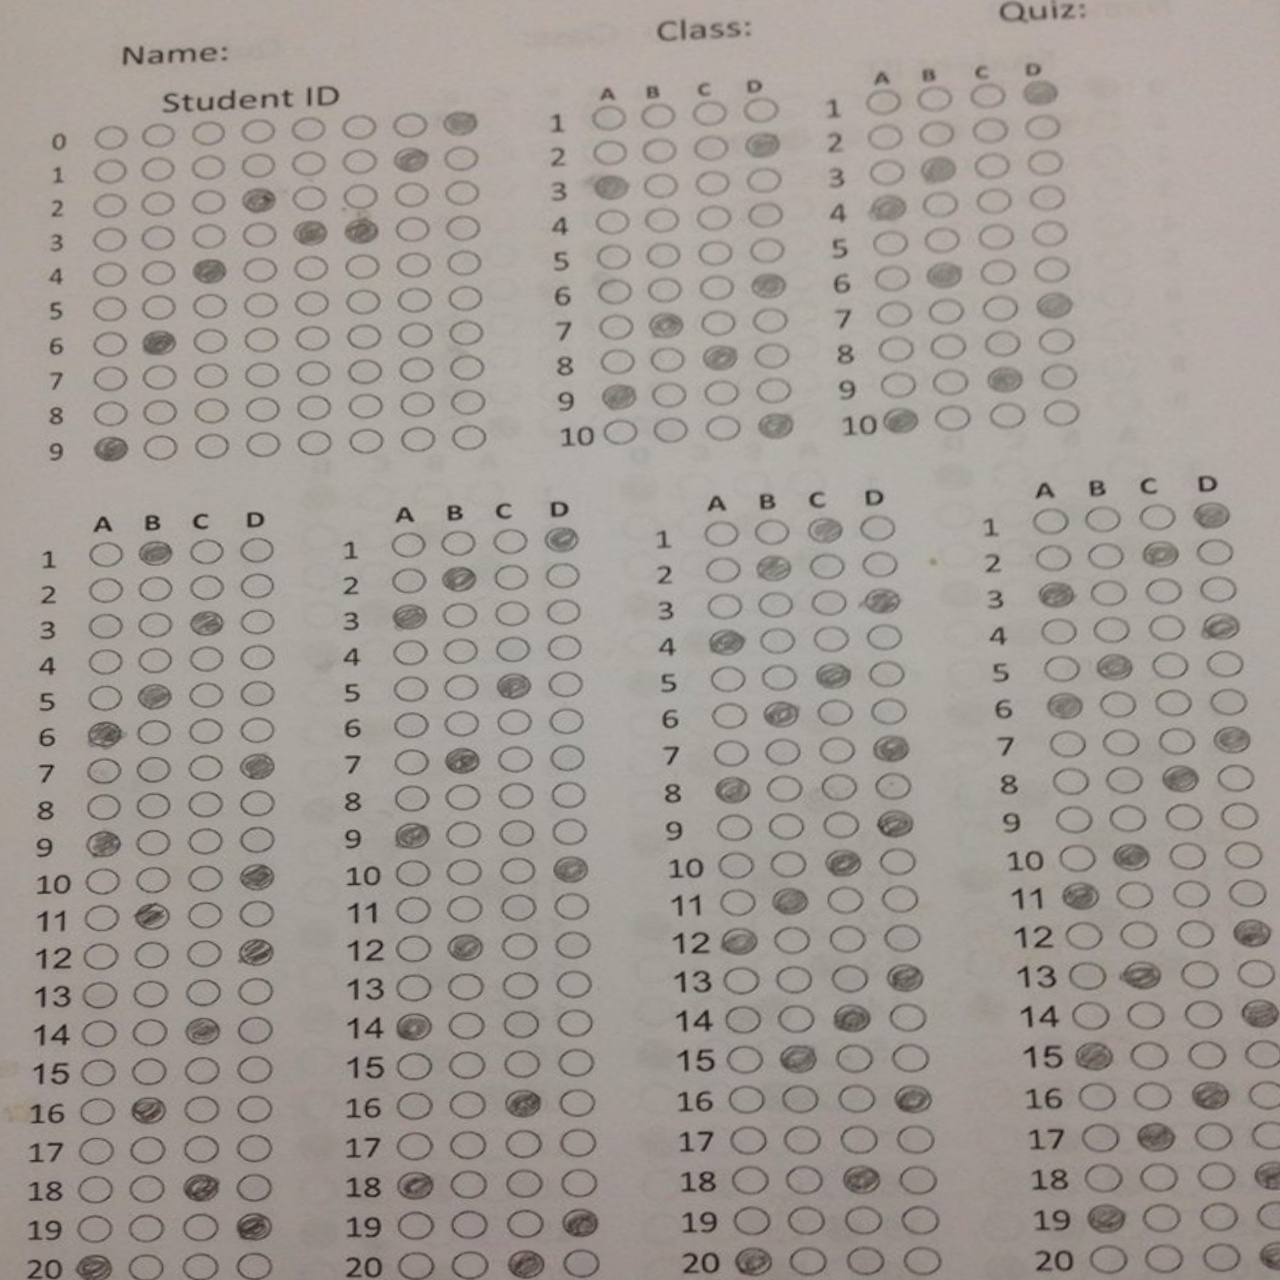not-c: (892, 1160, 941, 1196), (557, 1244, 602, 1280), (775, 1000, 818, 1035), (899, 1241, 942, 1276), (445, 1248, 493, 1280), (832, 1082, 880, 1114), (887, 1000, 932, 1034), (897, 1121, 941, 1155), (782, 1203, 828, 1235), (1187, 1039, 1233, 1071), (497, 891, 539, 926), (556, 1046, 598, 1081), (728, 1204, 775, 1235), (877, 921, 921, 954), (1040, 651, 1084, 683), (928, 294, 968, 331), (1235, 956, 1278, 990), (392, 972, 435, 1005), (927, 365, 971, 397), (898, 1203, 942, 1234), (765, 926, 813, 955), (822, 926, 870, 955), (545, 667, 585, 702), (554, 1005, 594, 1040), (590, 205, 632, 238), (781, 1121, 823, 1153), (838, 1122, 880, 1155), (1035, 324, 1077, 356), (1141, 1200, 1183, 1233), (552, 966, 595, 998), (871, 769, 914, 801), (840, 1203, 884, 1234), (560, 1165, 598, 1201), (730, 1162, 769, 1197), (549, 891, 593, 921), (982, 290, 1022, 324), (724, 1122, 765, 1155), (491, 526, 533, 558), (1171, 877, 1213, 908), (127, 1172, 170, 1203), (556, 1085, 599, 1116), (771, 962, 815, 993), (887, 1041, 931, 1071), (787, 1246, 830, 1276), (1216, 801, 1259, 831), (1065, 1001, 1109, 1032), (449, 1128, 486, 1163), (874, 885, 921, 913), (719, 968, 765, 996), (1083, 1245, 1130, 1273), (449, 1167, 489, 1200), (762, 737, 802, 770), (1179, 959, 1219, 992), (1200, 1240, 1240, 1273), (1020, 110, 1064, 139), (1194, 1159, 1239, 1189), (501, 1049, 542, 1081), (1139, 1160, 1180, 1192), (980, 331, 1028, 358), (233, 1055, 275, 1085), (707, 663, 753, 692), (726, 1085, 771, 1114), (1022, 149, 1064, 179), (1191, 536, 1233, 566), (1099, 727, 1142, 757), (1114, 878, 1156, 908), (1117, 919, 1159, 949), (1200, 1201, 1242, 1232), (184, 1133, 222, 1167), (878, 367, 915, 401), (132, 573, 176, 602), (389, 747, 433, 776), (499, 972, 543, 1001), (813, 736, 857, 765), (712, 852, 755, 881), (847, 1242, 891, 1272), (188, 862, 226, 894), (704, 590, 743, 622), (1109, 802, 1148, 835), (591, 244, 638, 271), (812, 622, 852, 654), (1057, 840, 1097, 872), (1170, 839, 1210, 871), (1178, 918, 1218, 949), (231, 1095, 275, 1123), (234, 1250, 275, 1280), (389, 530, 430, 560), (971, 150, 1012, 181), (1085, 540, 1126, 571), (552, 933, 594, 962), (830, 964, 872, 993), (784, 1165, 826, 1194), (974, 222, 1016, 251), (930, 404, 972, 434), (1150, 651, 1192, 680), (1129, 1043, 1171, 1073), (1078, 1081, 1121, 1110), (395, 1050, 431, 1084), (542, 633, 587, 660), (743, 238, 789, 265), (547, 779, 585, 812), (395, 931, 434, 962), (980, 256, 1019, 287), (1216, 762, 1254, 794), (1228, 878, 1267, 910), (389, 636, 433, 665), (504, 1211, 547, 1239), (237, 1132, 277, 1163), (236, 1171, 275, 1201), (502, 1166, 542, 1197), (396, 1208, 436, 1239), (858, 515, 898, 545), (756, 591, 796, 621), (1156, 726, 1196, 756), (1087, 1162, 1126, 1192), (1030, 545, 1077, 571), (544, 561, 585, 591), (690, 171, 731, 200), (726, 1044, 767, 1074), (973, 188, 1014, 217), (1029, 184, 1070, 213), (1041, 399, 1082, 428), (1210, 687, 1251, 716), (1126, 1002, 1167, 1032), (1087, 617, 1131, 644), (236, 899, 278, 927), (440, 527, 477, 559), (445, 894, 483, 926), (448, 1092, 490, 1121), (397, 1129, 435, 1160), (714, 887, 756, 915), (782, 1082, 819, 1114), (496, 782, 535, 812), (393, 856, 431, 886), (753, 374, 791, 404), (1133, 1082, 1172, 1112), (586, 104, 629, 131), (641, 138, 685, 165), (701, 416, 744, 443), (445, 282, 485, 312), (182, 1056, 222, 1085), (546, 743, 586, 772), (497, 931, 537, 960), (392, 1091, 431, 1121), (700, 309, 740, 339), (1051, 765, 1091, 795), (130, 1019, 171, 1047), (178, 1252, 219, 1280), (495, 597, 530, 629), (499, 855, 535, 887), (448, 1012, 489, 1040), (1085, 504, 1126, 532), (239, 604, 275, 635), (135, 939, 171, 971), (79, 1175, 115, 1206), (552, 816, 588, 847), (184, 754, 229, 779), (592, 316, 636, 342), (701, 558, 745, 584), (1198, 577, 1242, 602), (186, 978, 224, 1008), (504, 1009, 542, 1040), (864, 549, 901, 579), (771, 851, 809, 881), (1048, 727, 1085, 757), (1165, 802, 1203, 832), (1187, 999, 1225, 1029), (1242, 1041, 1280, 1071), (396, 392, 438, 418), (129, 1137, 171, 1164), (386, 567, 428, 594), (493, 709, 536, 736), (867, 159, 910, 186), (1220, 842, 1262, 869), (86, 648, 124, 678), (76, 1097, 115, 1126), (833, 1043, 872, 1073), (1069, 960, 1108, 989), (291, 254, 331, 282), (343, 359, 383, 387), (189, 682, 229, 710), (79, 1022, 118, 1050), (394, 1252, 434, 1280), (652, 417, 692, 445), (712, 740, 751, 768), (913, 84, 953, 113), (1204, 648, 1244, 676), (388, 712, 431, 737), (444, 973, 488, 999), (636, 101, 680, 127), (818, 774, 862, 799), (450, 353, 486, 383), (444, 783, 481, 813), (559, 1126, 595, 1157), (757, 516, 794, 546), (988, 402, 1024, 433), (1194, 1121, 1231, 1151), (341, 252, 382, 279), (125, 1216, 166, 1242), (760, 626, 801, 653), (723, 1005, 764, 1032), (342, 287, 380, 316), (452, 423, 490, 452), (551, 706, 588, 735), (448, 1050, 485, 1080), (191, 361, 230, 389), (241, 360, 280, 388), (293, 393, 332, 421), (442, 638, 481, 666), (390, 674, 433, 700), (443, 710, 482, 738), (442, 858, 481, 886), (451, 1210, 490, 1238), (806, 552, 849, 578), (1054, 806, 1092, 835), (141, 433, 181, 459), (75, 1138, 115, 1165), (600, 418, 640, 445), (874, 302, 914, 329), (1153, 688, 1193, 715), (139, 610, 175, 640), (1030, 217, 1065, 247), (1040, 361, 1075, 392), (968, 83, 1012, 108), (134, 865, 170, 894), (703, 379, 740, 408), (188, 293, 229, 319), (1137, 502, 1178, 527), (1088, 583, 1129, 608), (448, 387, 485, 415), (189, 716, 226, 744), (185, 938, 223, 966), (79, 1057, 116, 1085), (130, 1058, 168, 1087), (496, 635, 533, 663), (394, 894, 431, 922), (754, 343, 791, 372), (1034, 256, 1071, 284), (874, 334, 912, 362), (1108, 765, 1145, 794), (1065, 921, 1103, 949), (1083, 1125, 1121, 1153), (190, 120, 229, 147), (441, 144, 479, 171), (142, 361, 181, 388), (138, 399, 177, 425), (294, 429, 333, 456), (86, 576, 124, 602), (642, 172, 681, 199), (642, 207, 681, 234), (703, 522, 742, 549), (878, 847, 917, 874), (922, 226, 961, 253), (1030, 508, 1069, 535), (1144, 1245, 1183, 1272), (508, 1126, 540, 1158), (132, 978, 166, 1008), (501, 816, 535, 846), (396, 215, 431, 244), (136, 791, 171, 821), (1150, 613, 1185, 642), (189, 188, 229, 213), (182, 1098, 222, 1124), (692, 100, 731, 125), (240, 642, 277, 670), (239, 715, 275, 743), (84, 903, 121, 931), (1099, 690, 1136, 719), (340, 184, 377, 211), (393, 181, 430, 207), (444, 179, 482, 206), (88, 226, 125, 253), (291, 290, 328, 316), (195, 431, 232, 458), (399, 425, 436, 452), (136, 648, 173, 675), (128, 1253, 165, 1280), (83, 796, 124, 821), (84, 940, 117, 971), (240, 1015, 273, 1046), (1247, 1080, 1280, 1110), (86, 685, 124, 710), (132, 755, 171, 781), (186, 792, 225, 818), (694, 205, 733, 231), (644, 278, 682, 304), (695, 277, 734, 302), (651, 382, 689, 408), (864, 89, 903, 115), (241, 571, 275, 600), (744, 95, 778, 124), (93, 363, 128, 392), (240, 789, 275, 817), (869, 621, 904, 649), (761, 665, 796, 693), (90, 331, 130, 355), (80, 983, 120, 1008), (441, 602, 481, 627), (696, 241, 736, 266), (294, 325, 331, 352), (134, 829, 170, 856), (594, 139, 631, 166), (138, 123, 176, 149), (86, 540, 123, 566), (135, 720, 172, 745), (812, 591, 850, 617), (816, 700, 853, 726), (715, 813, 753, 839), (769, 813, 806, 839), (869, 125, 906, 151), (592, 281, 635, 304), (188, 903, 222, 931), (745, 166, 779, 195), (1148, 576, 1182, 604), (138, 226, 177, 251), (828, 887, 866, 912), (239, 120, 274, 147), (345, 147, 380, 173), (445, 215, 481, 241), (238, 537, 273, 564), (240, 828, 275, 855), (86, 867, 121, 894), (184, 1213, 219, 1240), (545, 599, 580, 626), (744, 200, 779, 227), (710, 702, 745, 729), (872, 699, 907, 726), (974, 115, 1009, 142), (924, 192, 959, 219), (1043, 618, 1078, 645), (139, 191, 176, 217), (195, 399, 231, 424), (244, 396, 280, 422), (493, 566, 530, 592), (867, 661, 907, 685), (765, 777, 805, 801), (88, 195, 125, 219), (394, 252, 431, 277), (244, 291, 277, 319), (245, 326, 282, 350), (449, 319, 486, 343), (299, 360, 332, 388), (823, 812, 860, 837), (189, 828, 223, 855), (447, 821, 481, 847), (191, 224, 226, 250), (91, 260, 127, 286), (445, 250, 481, 275), (91, 295, 127, 321), (193, 327, 229, 353), (244, 433, 282, 456), (86, 614, 124, 638), (240, 680, 275, 706), (497, 748, 532, 774), (395, 788, 430, 813), (871, 233, 910, 257), (290, 152, 326, 177), (239, 258, 275, 282), (188, 576, 224, 600), (692, 137, 728, 162), (873, 267, 910, 292), (1250, 1122, 1280, 1151), (143, 293, 176, 320), (399, 356, 431, 383), (599, 349, 636, 373), (193, 154, 227, 179), (399, 286, 433, 312), (350, 392, 384, 417), (79, 1218, 113, 1244), (94, 125, 129, 150), (141, 158, 176, 183), (397, 320, 433, 345), (188, 647, 223, 672), (240, 979, 272, 1006), (919, 120, 951, 147), (89, 158, 125, 182), (394, 113, 427, 138), (348, 324, 381, 349), (651, 349, 683, 375), (94, 401, 128, 425), (89, 758, 123, 783), (445, 676, 477, 702), (931, 333, 964, 358), (241, 223, 275, 246), (649, 243, 680, 268), (1254, 1200, 1280, 1231), (288, 117, 324, 139), (142, 263, 177, 285), (753, 309, 788, 332), (350, 430, 384, 452), (191, 539, 222, 564), (343, 116, 375, 139), (241, 156, 277, 177), (294, 186, 327, 207)
taken-c: (390, 1008, 435, 1043), (125, 1092, 171, 1126), (595, 380, 642, 413), (837, 1162, 883, 1194), (888, 1081, 933, 1114), (183, 606, 229, 638), (1231, 915, 1273, 949), (1084, 1201, 1126, 1235), (729, 1244, 772, 1276), (745, 270, 790, 301), (1118, 958, 1163, 989), (128, 900, 171, 932), (644, 309, 687, 341), (188, 256, 232, 286), (501, 1087, 545, 1117), (775, 1043, 819, 1074), (181, 1171, 222, 1204), (1058, 879, 1099, 912), (1239, 998, 1280, 1030), (1133, 1121, 1175, 1153), (1032, 290, 1077, 319), (234, 862, 278, 892), (1138, 539, 1182, 570), (232, 935, 277, 965), (917, 154, 958, 185), (438, 107, 481, 137), (89, 433, 131, 463), (392, 821, 434, 851), (922, 259, 965, 290), (865, 191, 907, 222), (395, 1167, 433, 1201), (341, 215, 381, 246), (182, 1014, 222, 1046), (443, 931, 483, 962), (438, 561, 478, 593), (1210, 722, 1250, 754), (540, 524, 581, 554), (1017, 74, 1058, 104), (1073, 1040, 1114, 1070), (236, 751, 278, 781), (755, 411, 797, 441), (1199, 608, 1238, 640), (72, 1250, 111, 1280), (707, 627, 747, 658), (1189, 497, 1228, 527), (879, 406, 920, 435), (1044, 689, 1085, 719), (389, 601, 431, 629), (768, 887, 810, 915), (558, 1206, 597, 1237), (823, 847, 862, 878), (1111, 840, 1150, 871), (981, 365, 1024, 392), (549, 853, 588, 883), (1189, 1080, 1228, 1109), (132, 537, 173, 565), (810, 660, 851, 688), (389, 142, 427, 172), (233, 1211, 271, 1241), (871, 733, 908, 763), (1035, 577, 1073, 607), (238, 185, 277, 215), (83, 828, 122, 857), (503, 1247, 542, 1276), (831, 1002, 870, 1032), (1092, 651, 1131, 680), (290, 216, 327, 245), (874, 806, 912, 836), (712, 775, 749, 804), (700, 343, 738, 372), (588, 172, 627, 200), (884, 962, 922, 990), (743, 129, 779, 158), (761, 697, 797, 727), (137, 328, 178, 354), (84, 720, 123, 747), (719, 926, 757, 953), (1160, 764, 1199, 791), (135, 681, 172, 708), (493, 670, 531, 697), (443, 745, 478, 774), (862, 585, 898, 612), (804, 515, 840, 542), (753, 554, 790, 580), (1252, 1160, 1280, 1190), (1255, 1238, 1280, 1269)
